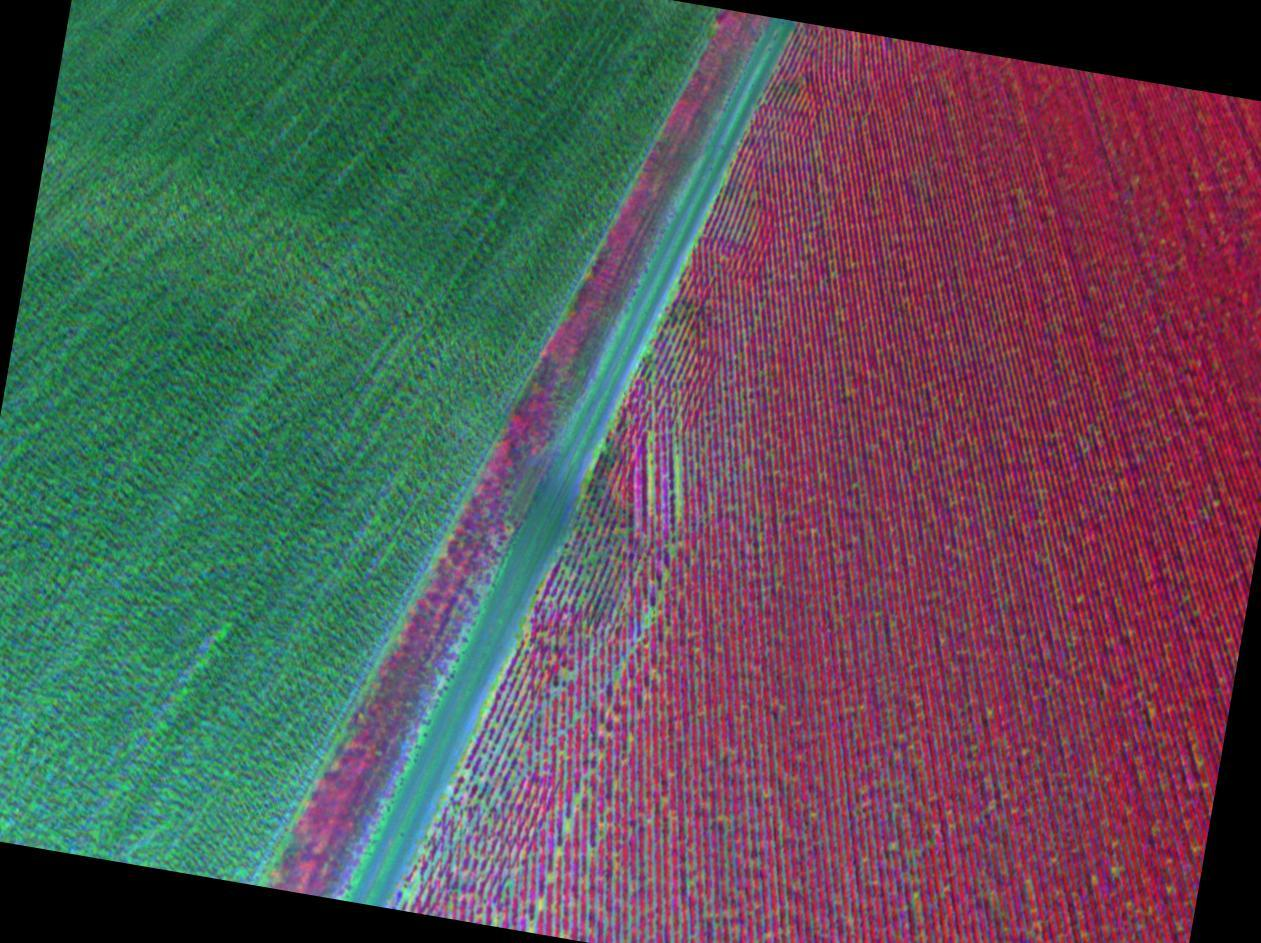dc: (663, 571, 666, 574), (649, 615, 652, 618)
